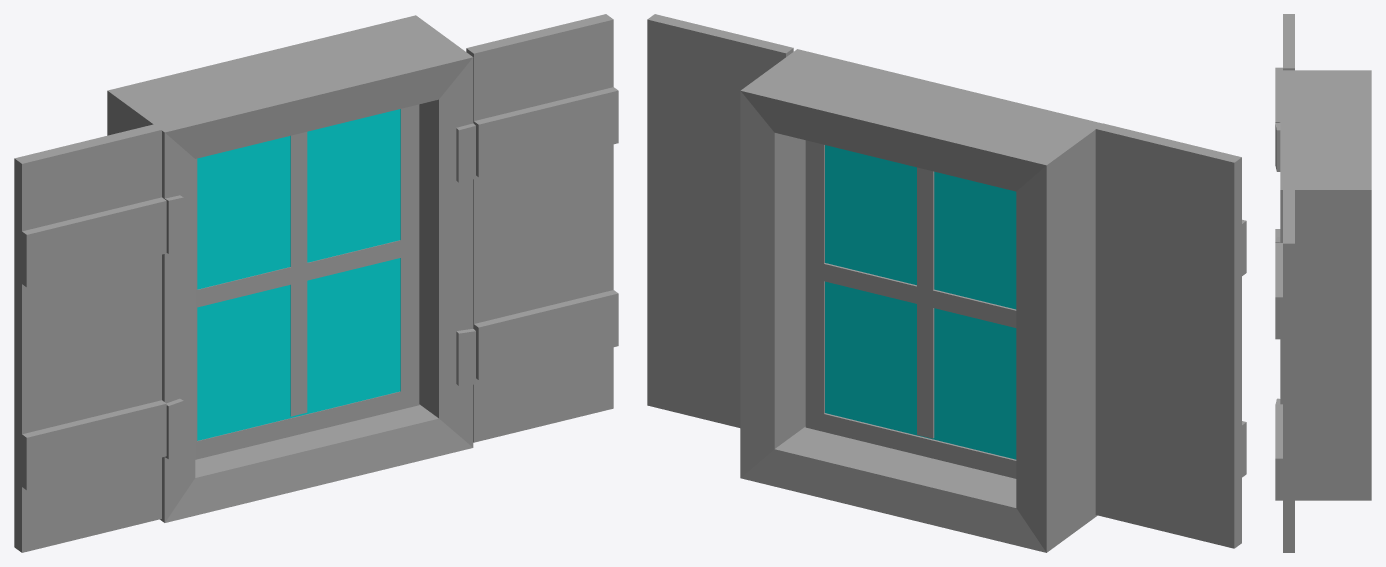
The model's file is WindowA.fbx.
3 views of the same model, side by side, from view 1: azimuth 30°, elevation 25°; view 2: azimuth 150°, elevation 25°; view 3: azimuth 270°, elevation 25° (orthographic). The views are drawn at different scales.
Visible parts, largest first — view 1: Window_Collection:WindowA, Shutter1, Shutter; view 2: Window_Collection:WindowA, Shutter1, Shutter; view 3: Window_Collection:WindowA, Shutter, Shutter1.
Boxes of the visible parts, x1,y1,x2,y2 form: Window_Collection:WindowA: (107, 15, 475, 522); Shutter1: (14, 124, 166, 552); Shutter: (466, 14, 618, 442); Window_Collection:WindowA: (740, 49, 1102, 552); Shutter1: (1095, 123, 1246, 548); Shutter: (647, 14, 793, 427); Window_Collection:WindowA: (1275, 70, 1371, 500); Shutter: (1275, 189, 1294, 552); Shutter1: (1275, 14, 1294, 241).
Size of the model in its own units: 4.95 by 3.14 by 0.8771.
